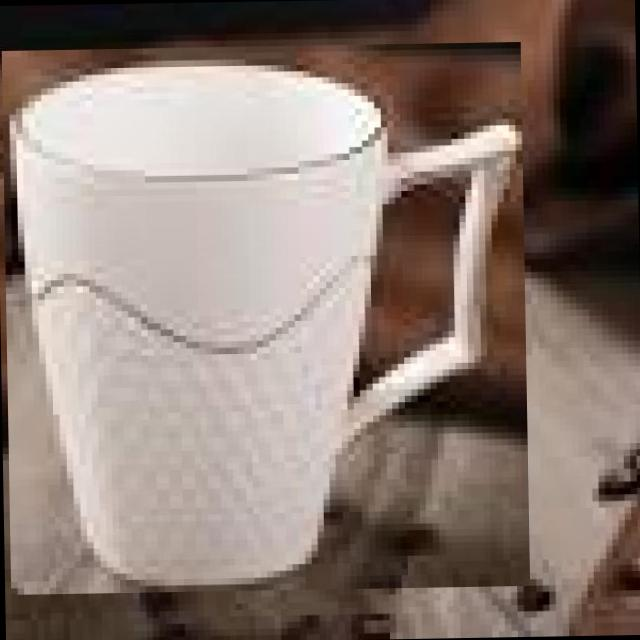Coffee Mug: (9, 59, 528, 586)
